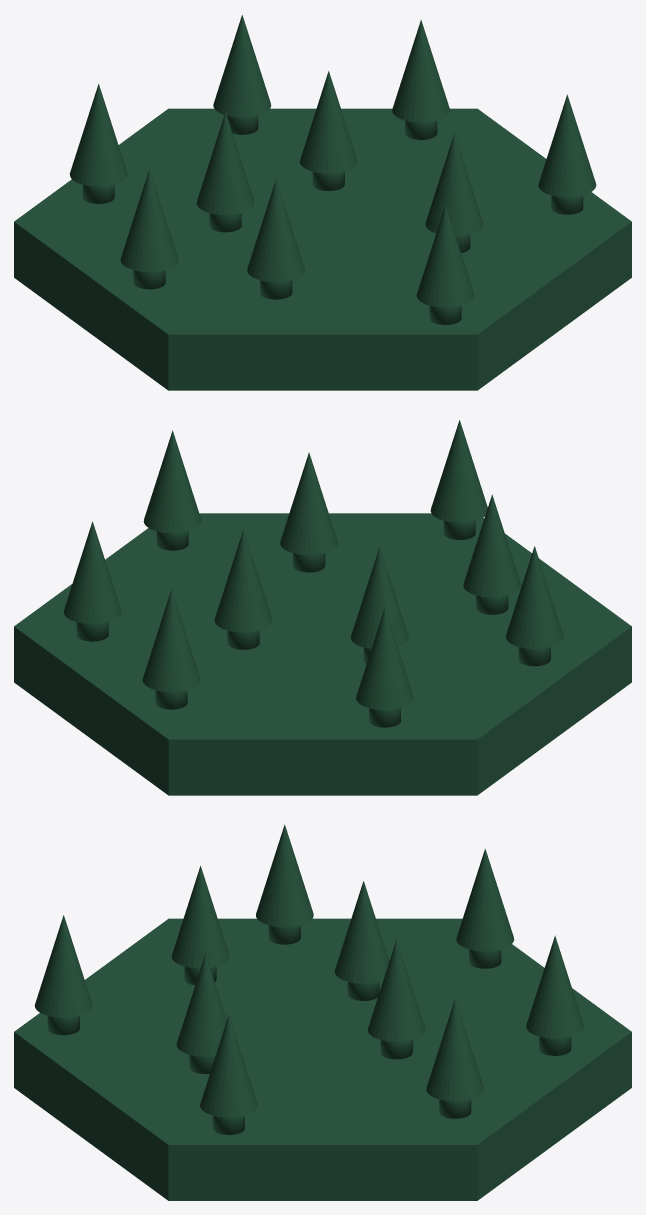
The model's file is forestHex.fbx.
3 views of the same model, one above another, from view 1: azimuth 30°, elevation 25°; view 2: azimuth 150°, elevation 25°; view 3: azimuth 270°, elevation 25° (orthographic).
Visible parts, largest first — view 1: Cube; view 2: Cube; view 3: Cube.
Part boxes in pixels (x1,y1,x2,y2): Cube: (14, 15, 631, 390); Cube: (14, 420, 631, 795); Cube: (14, 824, 631, 1200).
Bounding box in the file's own units: 173 × 60.64 × 200.
